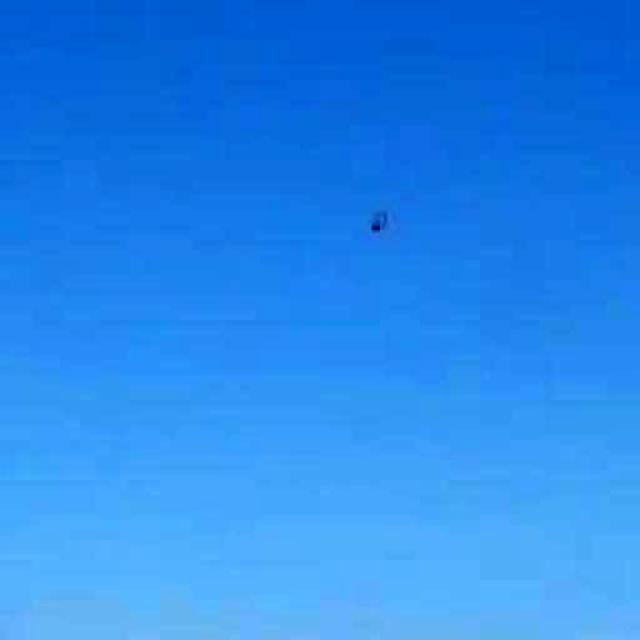drone: (342, 182, 404, 252)
